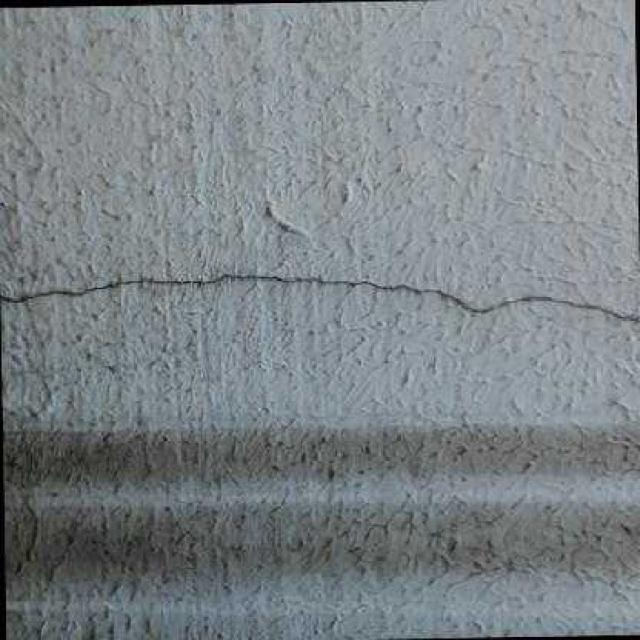D00: (0, 266, 640, 323)
